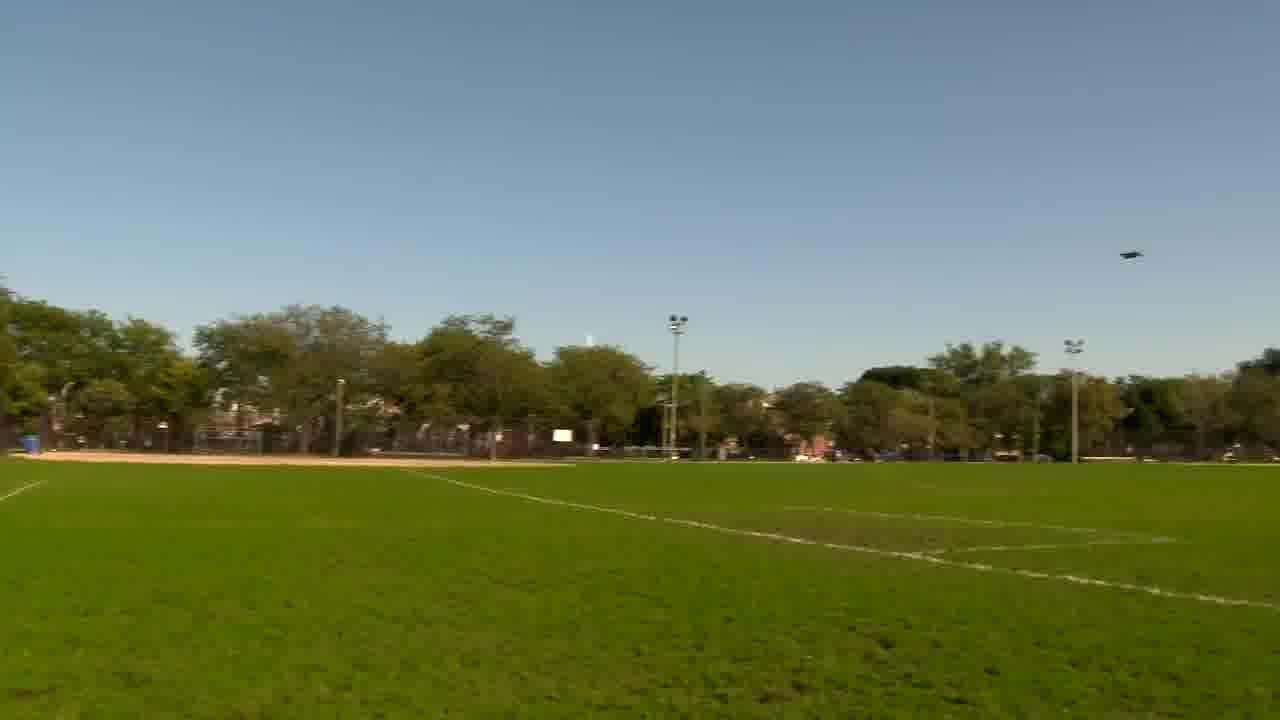drone: (1105, 244, 1149, 268)
